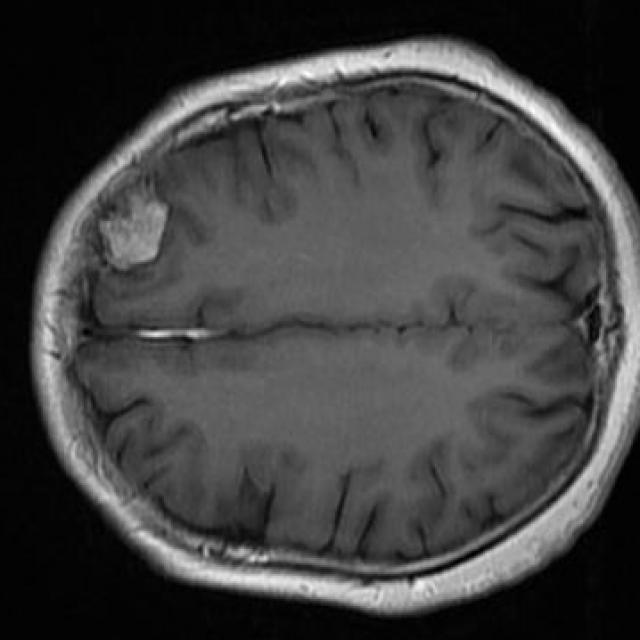meningioma: (100, 194, 171, 273)
